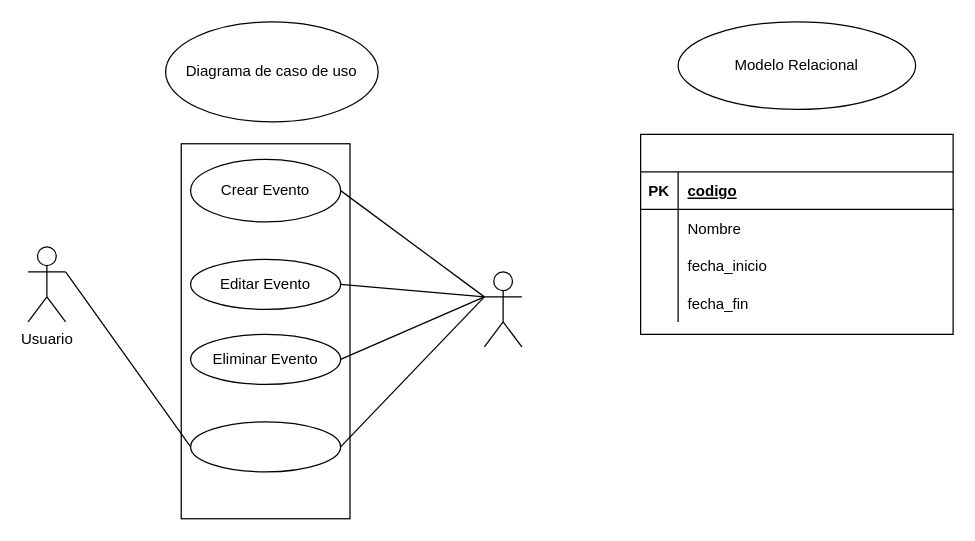
Some shapes in this 975 by 541 pixel diagram are drawn without their labels. The box of each missing label's shape, as (x1, y1, x2, y2) in pixels:
Actividad: (639, 133, 953, 334)
Administrador: (483, 271, 522, 347)
Ver Eventos: (189, 421, 341, 472)
